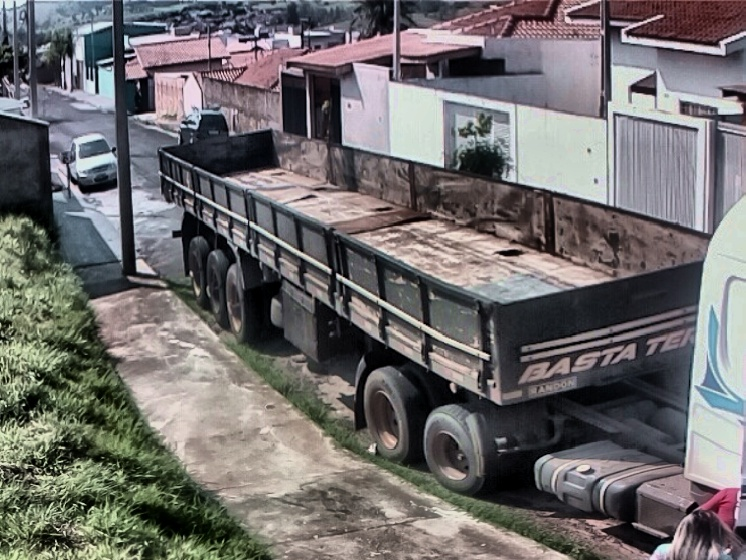person: (631, 506, 746, 560)
